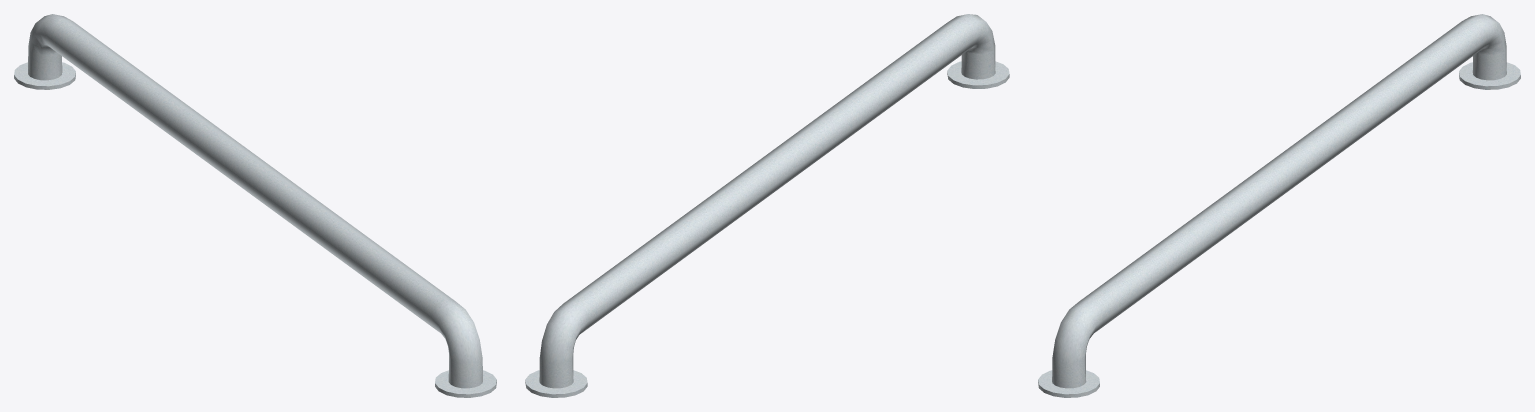
The model's file is Metal_pipe.fbx.
3 views of the same model, side by side, from view 1: azimuth 30°, elevation 25°; view 2: azimuth 150°, elevation 25°; view 3: azimuth 330°, elevation 25° (orthographic).
Visible parts, largest first — view 1: pasted__pCylinder90; view 2: pasted__pCylinder90; view 3: pasted__pCylinder90.
Boxes of the visible parts, box(x1,y1,x2,y2) form: pasted__pCylinder90: box(14, 14, 496, 397); pasted__pCylinder90: box(525, 14, 1009, 397); pasted__pCylinder90: box(1038, 14, 1520, 397).
Size of the model in its own units: 1.03 by 1.28 by 14.96.
1 material, 1 textured.
